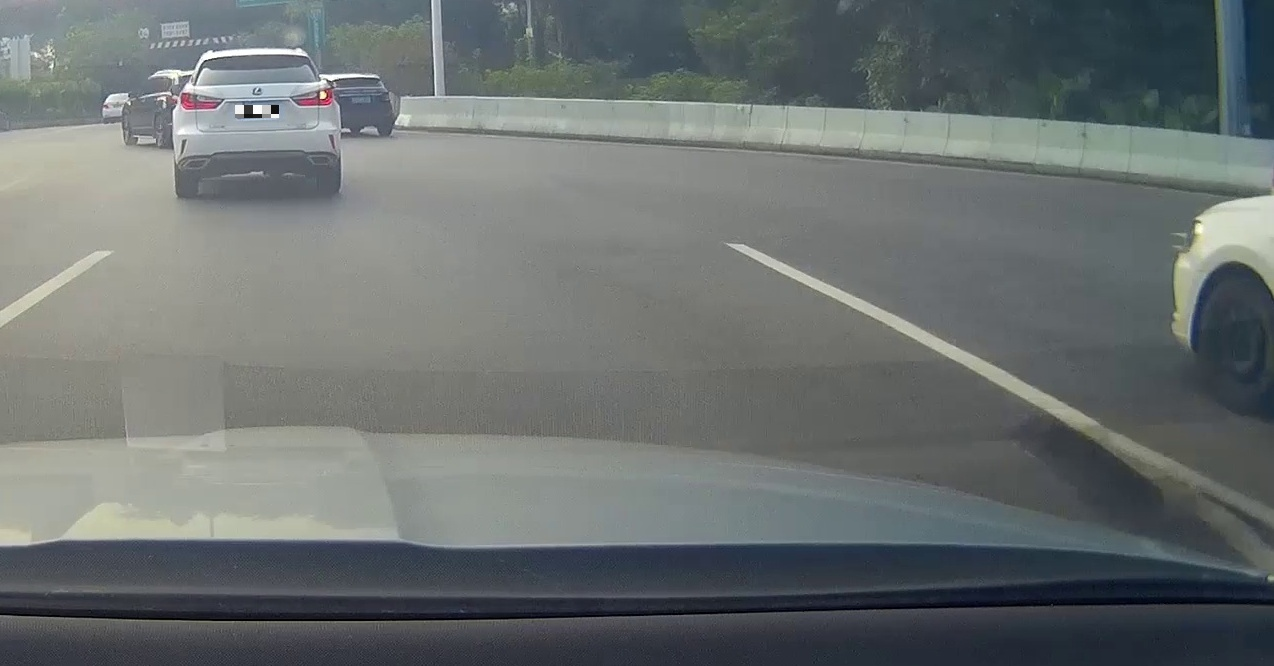L_light: (180, 92, 225, 111)
R_light: (289, 87, 333, 107)
T_light: (246, 53, 268, 58)
day-right: (174, 48, 340, 197)
plate_1: (235, 105, 279, 118)
